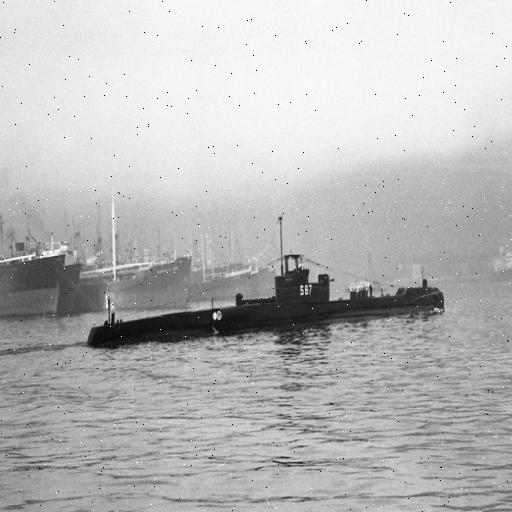submarine: (88, 214, 448, 350)
